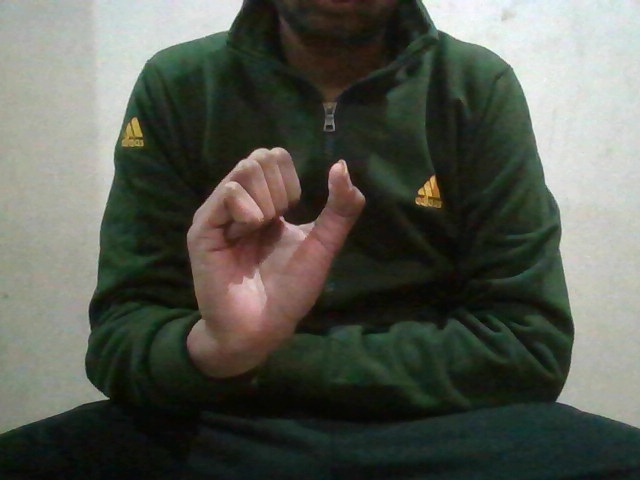S: (182, 144, 372, 369)
